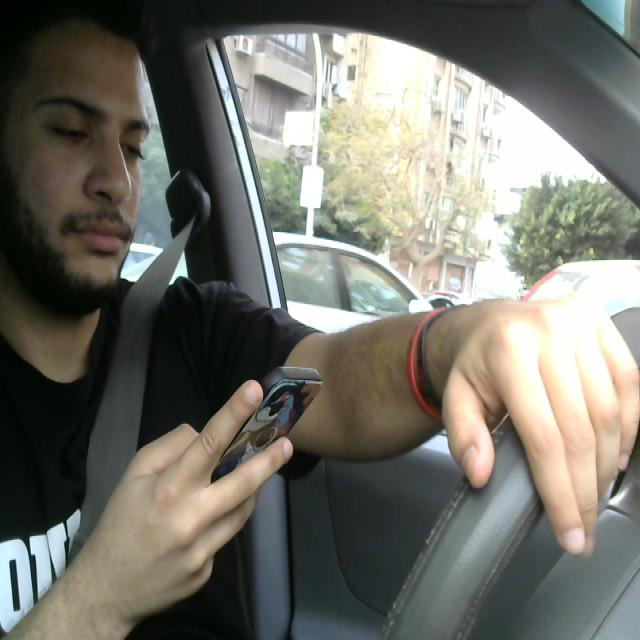mobile use: (169, 358, 324, 536)
